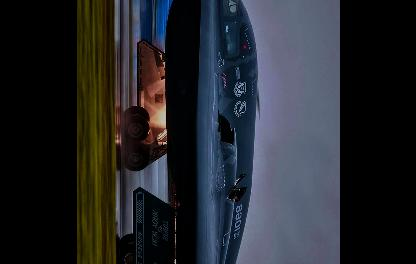B1: (117, 0, 260, 263)
